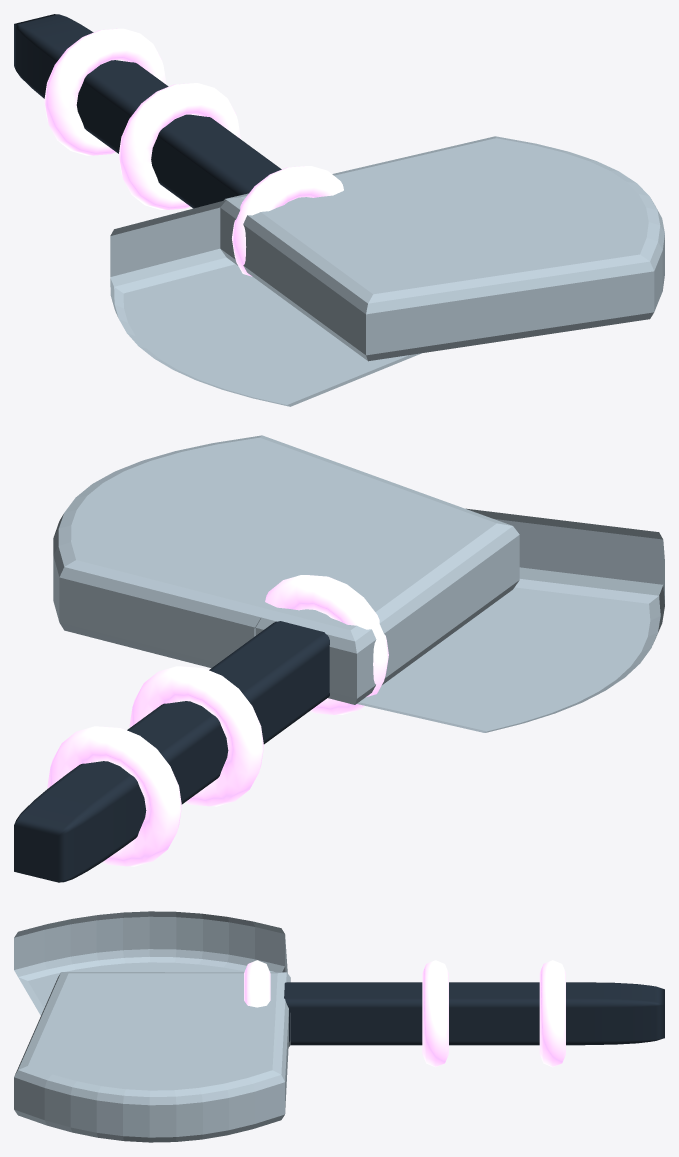
The model's file is axe-7.glb.
3 views of the same model, one above another, from view 1: azimuth 30°, elevation 25°; view 2: azimuth 150°, elevation 25°; view 3: azimuth 270°, elevation 25° (orthographic). The views are drawn at different scales.
Bounding box in the file's own units: 0.967 × 0.2343 × 1.41.
